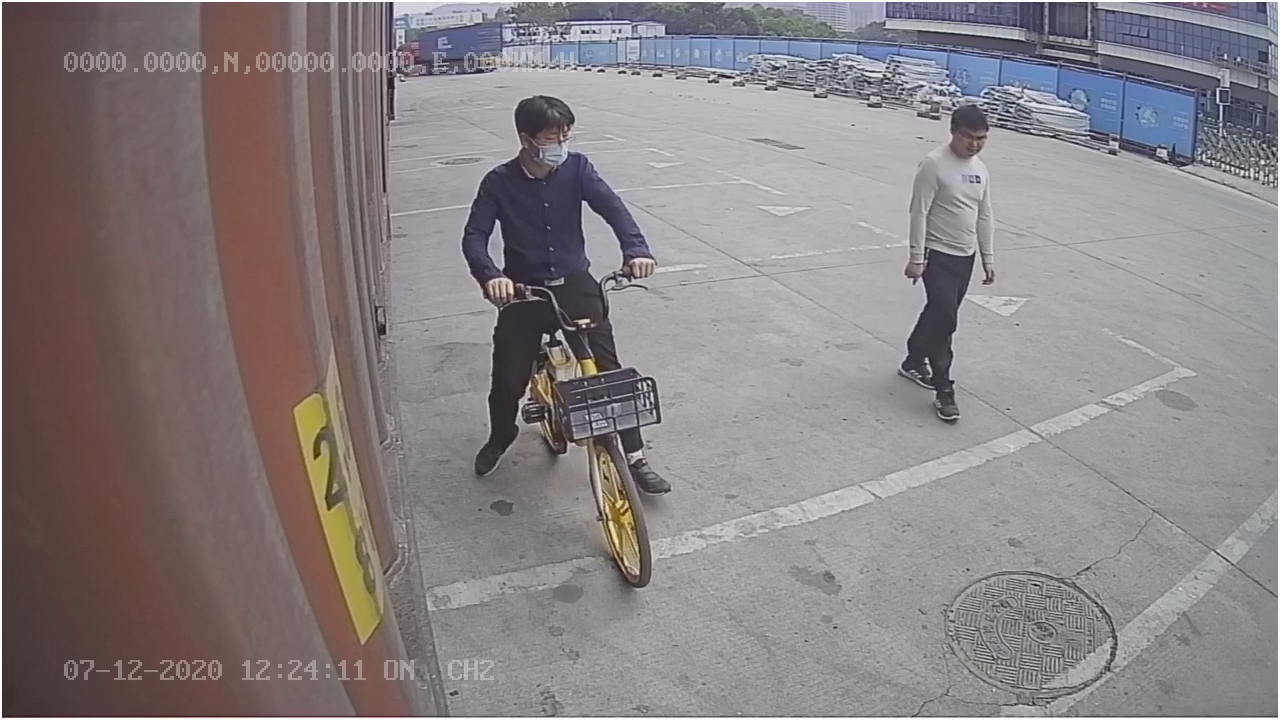person: (892, 102, 1005, 432)
